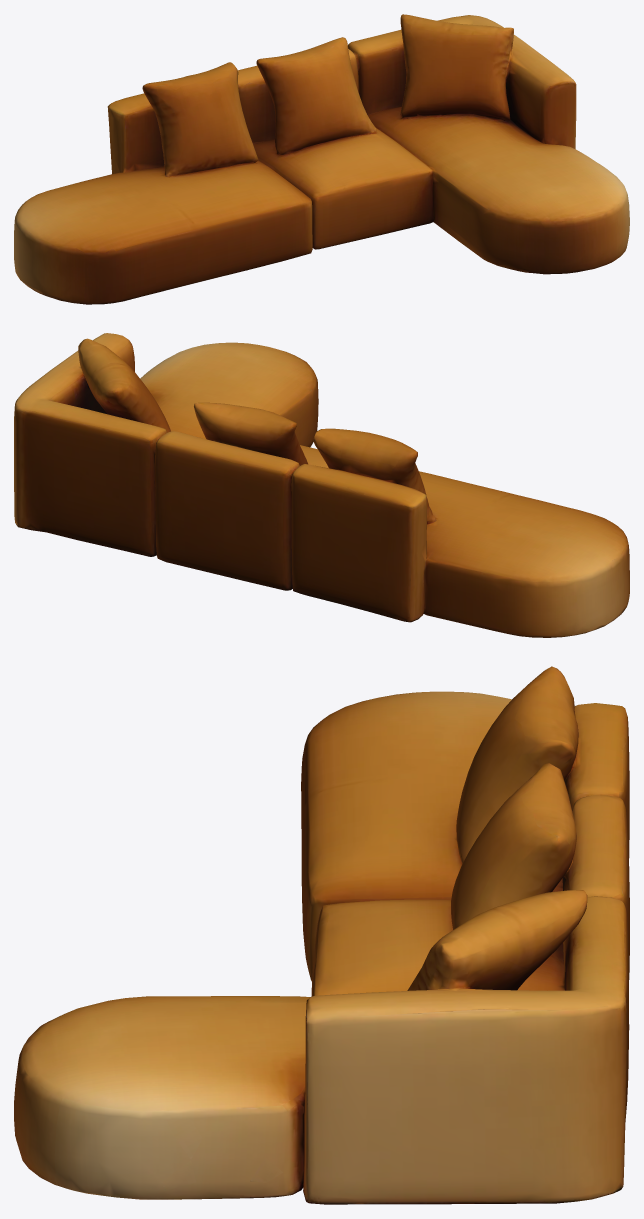
3 renders of one model, top to bottom at view 1: azimuth 30°, elevation 25°; view 2: azimuth 150°, elevation 25°; view 3: azimuth 270°, elevation 25°, orthographic. The views are drawn at different scales.
Parts seen in each view (by area): view 1: geometry_0; view 2: geometry_0; view 3: geometry_0.
Part boxes in pixels (x1,y1,x2,y2): geometry_0: [14, 14, 629, 304]; geometry_0: [14, 333, 629, 637]; geometry_0: [14, 666, 629, 1204].
Size of the model in its own units: 0.9999 by 0.2654 by 0.6094.
1 material, 1 textured.
